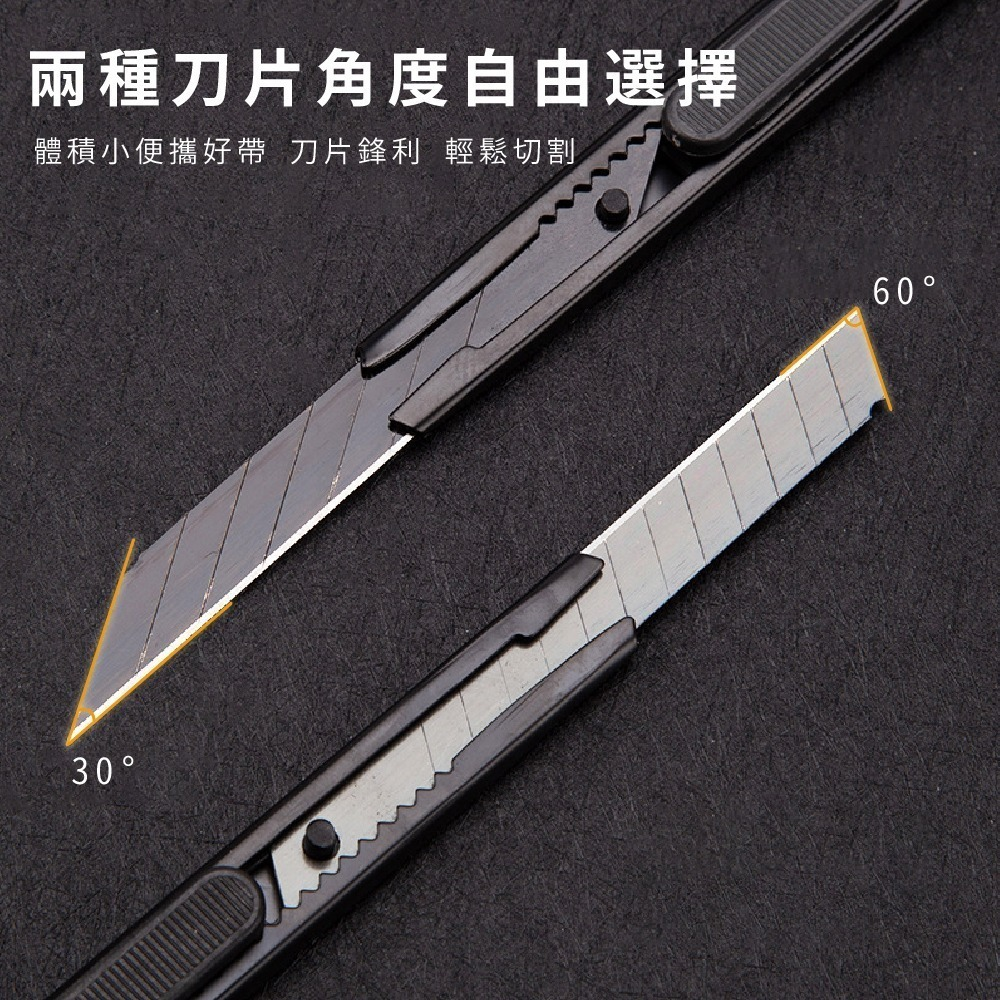cutter: (60, 1, 936, 753), (2, 302, 899, 1000)
